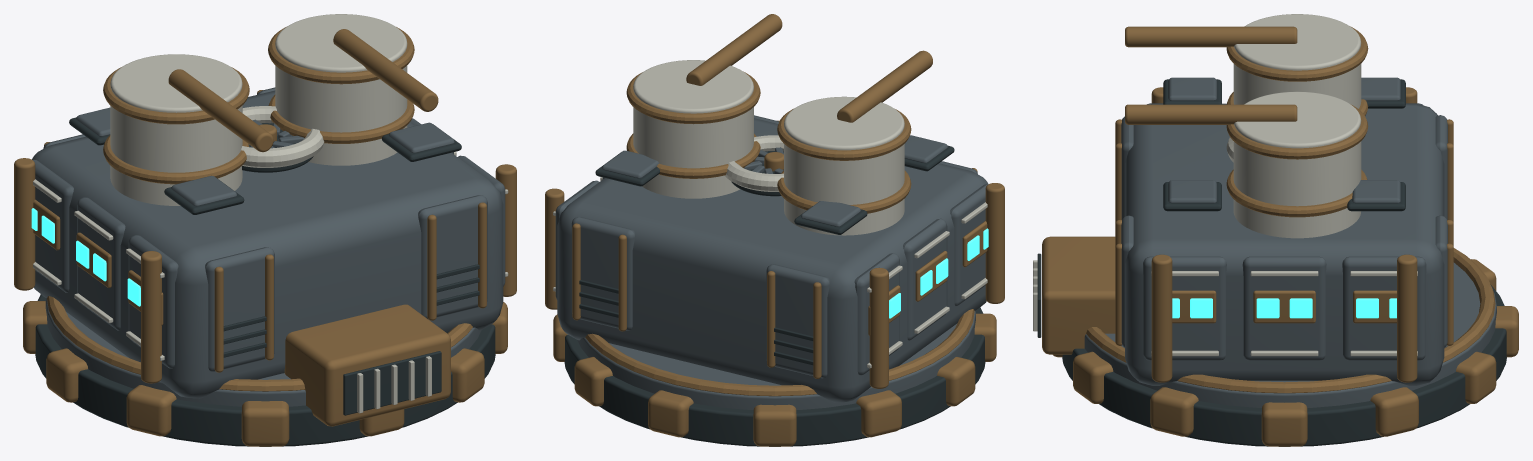
The model's file is fondoir.glb.
The picture shows the model from 3 angles, left to right: view 1: azimuth 30°, elevation 25°; view 2: azimuth 150°, elevation 25°; view 3: azimuth 270°, elevation 25°; orthographic projection. The views are drawn at different scales.
Parts seen in each view (by area): view 1: Échangeur thermique, Cuve d’eau, Cuve d’eau.001, Bouche de prise de glace, Semelle démontable, Panneau de façade, Panneau de façade.001, Châssis, Plaque latérale.001, Grille de prise, Ceinture du châssis, Plaque latérale.002 (+30 smaller); view 2: Échangeur thermique, Cuve d’eau.001, Cuve d’eau, Semelle démontable, Châssis, Panneau de façade.002, Panneau de façade.003, Ceinture du châssis, Plaque latérale.001, Conduite d’angle.002, Plaque latérale, Conduite d’angle.001 (+28 smaller); view 3: Échangeur thermique, Cuve d’eau.001, Semelle démontable, Bouche de prise de glace, Cuve d’eau, Châssis, Plaque latérale.004, Ceinture du châssis, Plaque latérale.005, Plaque latérale.003, Retour d’eau, Retour d’eau.001 (+34 smaller).
Part boxes in pixels (<box>): Échangeur thermique: <box>32,90,503,398</box>; Cuve d’eau: <box>110,54,242,205</box>; Cuve d’eau.001: <box>275,14,407,165</box>; Bouche de prise de glace: <box>284,304,450,426</box>; Semelle démontable: <box>35,294,495,446</box>; Panneau de façade: <box>205,247,274,371</box>; Panneau de façade.001: <box>418,195,487,319</box>; Châssis: <box>45,298,481,406</box>; Plaque latérale.001: <box>77,197,125,330</box>; Grille de prise: <box>343,351,441,415</box>; Ceinture du châssis: <box>47,296,472,391</box>; Plaque latérale.002: <box>32,159,73,292</box>; Échangeur thermique: <box>557,118,988,402</box>; Cuve d’eau.001: <box>633,60,753,198</box>; Cuve d’eau: <box>784,96,904,235</box>; Semelle démontable: <box>564,307,985,446</box>; Châssis: <box>577,311,975,409</box>; Panneau de façade.002: <box>766,264,829,378</box>; Panneau de façade.003: <box>571,217,635,330</box>; Ceinture du châssis: <box>585,309,974,396</box>; Plaque latérale.001: <box>903,218,947,340</box>; Conduite d’angle.002: <box>869,267,888,388</box>; Plaque latérale: <box>950,184,987,305</box>; Conduite d’angle.001: <box>985,183,1004,303</box>; Échangeur thermique: <box>1125,103,1444,385</box>; Cuve d’eau.001: <box>1233,91,1361,238</box>; Semelle démontable: <box>1062,284,1506,446</box>; Bouche de prise de glace: <box>1042,236,1115,354</box>; Cuve d’eau: <box>1233,14,1361,108</box>; Châssis: <box>1084,262,1496,407</box>; Plaque latérale.004: <box>1242,256,1326,360</box>; Ceinture du châssis: <box>1086,248,1495,393</box>; Plaque latérale.005: <box>1342,256,1426,360</box>; Plaque latérale.003: <box>1143,256,1226,360</box>; Retour d’eau: <box>1125,26,1297,47</box>; Retour d’eau.001: <box>1125,104,1297,124</box>.
Size of the model in its own units: 3.67 by 2.48 by 3.81.
